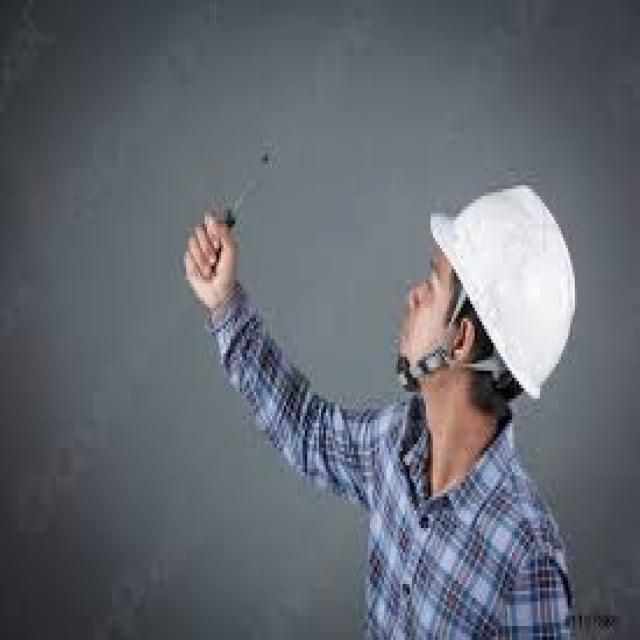screwdriver: (210, 132, 280, 260)
